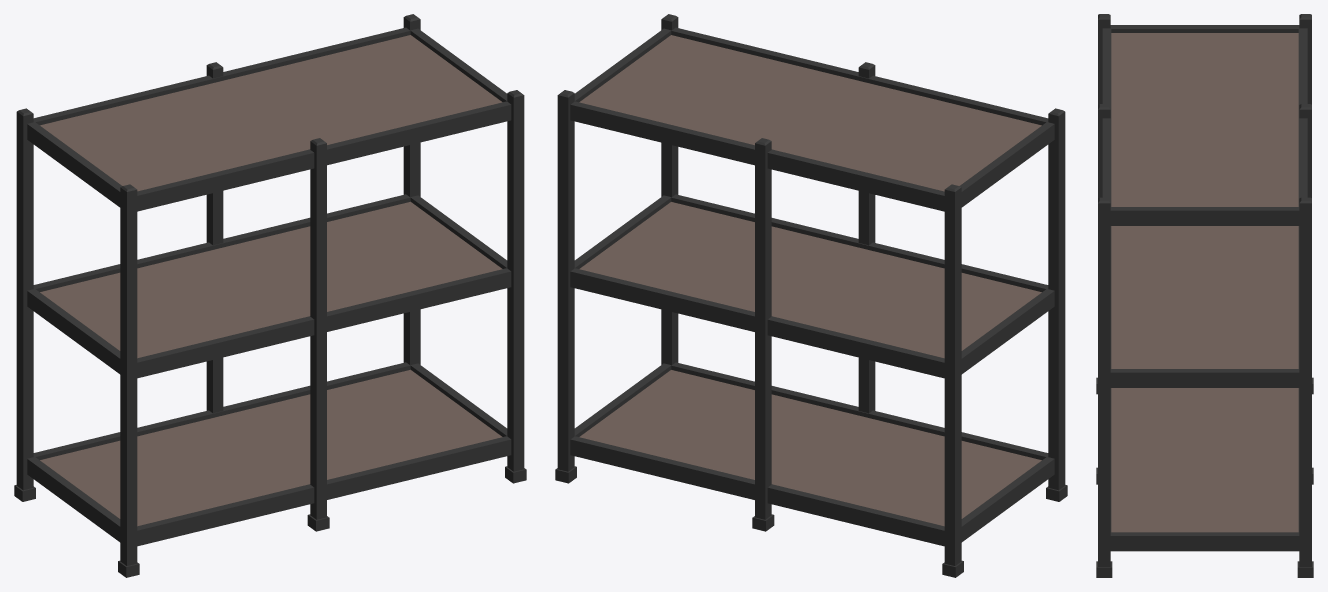
The model's file is props_64.glb.
The picture shows the model from 3 angles, left to right: view 1: azimuth 30°, elevation 25°; view 2: azimuth 150°, elevation 25°; view 3: azimuth 270°, elevation 25°; orthographic projection. The views are drawn at different scales.
Parts seen in each view (by area): view 1: props_64; view 2: props_64; view 3: props_64.
Boxes of the visible parts, left/top/right/bottom form: props_64: left=14, top=14, right=526, bottom=577; props_64: left=555, top=14, right=1067, bottom=577; props_64: left=1096, top=14, right=1313, bottom=577.
Bounding box in the file's own units: 1.97 × 1.82 × 0.9536.
Materials: 1 (1 with a texture image).
